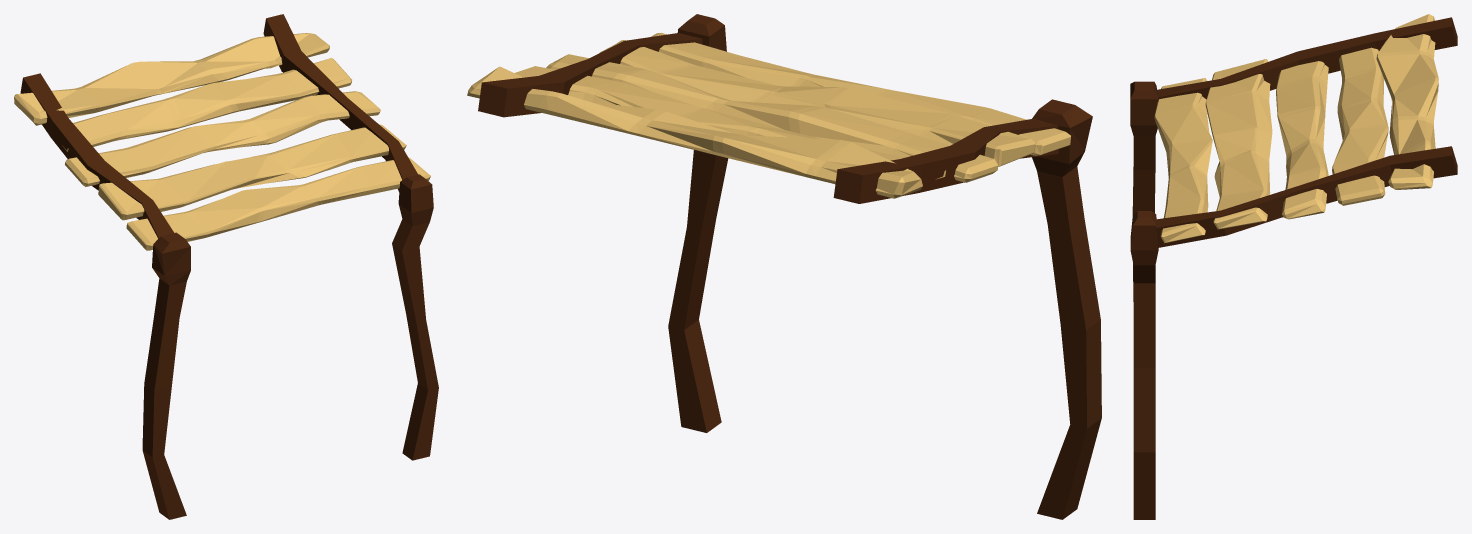
Rendered from Vordach01.fbx.
3 renders of one model, left to right at view 1: azimuth 30°, elevation 25°; view 2: azimuth 150°, elevation 25°; view 3: azimuth 270°, elevation 25°, orthographic. The views are drawn at different scales.
Visible parts, largest first — view 1: Vordach01; view 2: Vordach01; view 3: Vordach01.
Boxes of the visible parts, x1,y1,x2,y2 form: Vordach01: (14,14,438,519); Vordach01: (467,14,1101,519); Vordach01: (1130,14,1457,519).
Size of what is drawn, in the model's own units: 494 by 527 by 429.
